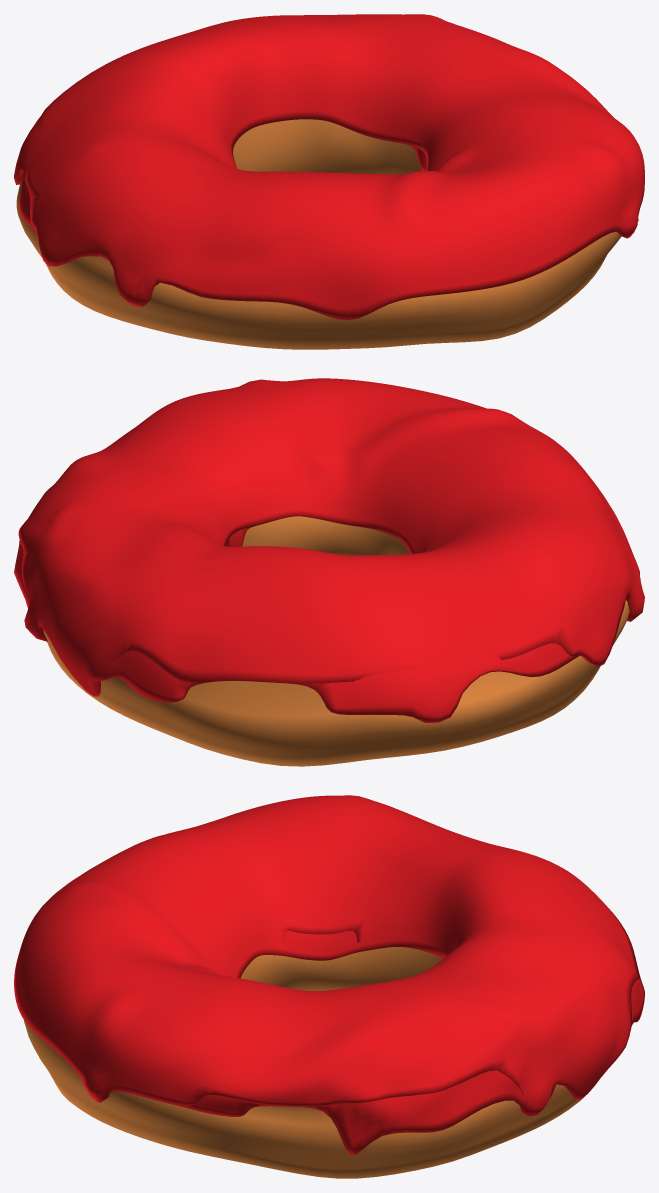
File: donutred.glb
The picture shows the model from 3 angles, top to bottom: view 1: azimuth 30°, elevation 25°; view 2: azimuth 150°, elevation 25°; view 3: azimuth 270°, elevation 25°; orthographic projection. The views are drawn at different scales.
Visible parts, largest first — view 1: Cover, Donut; view 2: Cover, Donut; view 3: Cover, Donut.
Boxes of the visible parts, box(x1,y1,x2,y2) form: Cover: box(14, 14, 644, 320); Donut: box(16, 119, 621, 349); Cover: box(14, 378, 644, 722); Donut: box(43, 516, 629, 766); Cover: box(14, 795, 644, 1155); Donut: box(23, 947, 598, 1178).
Size of the model in its own units: 0.416 by 0.1284 by 0.4131.
